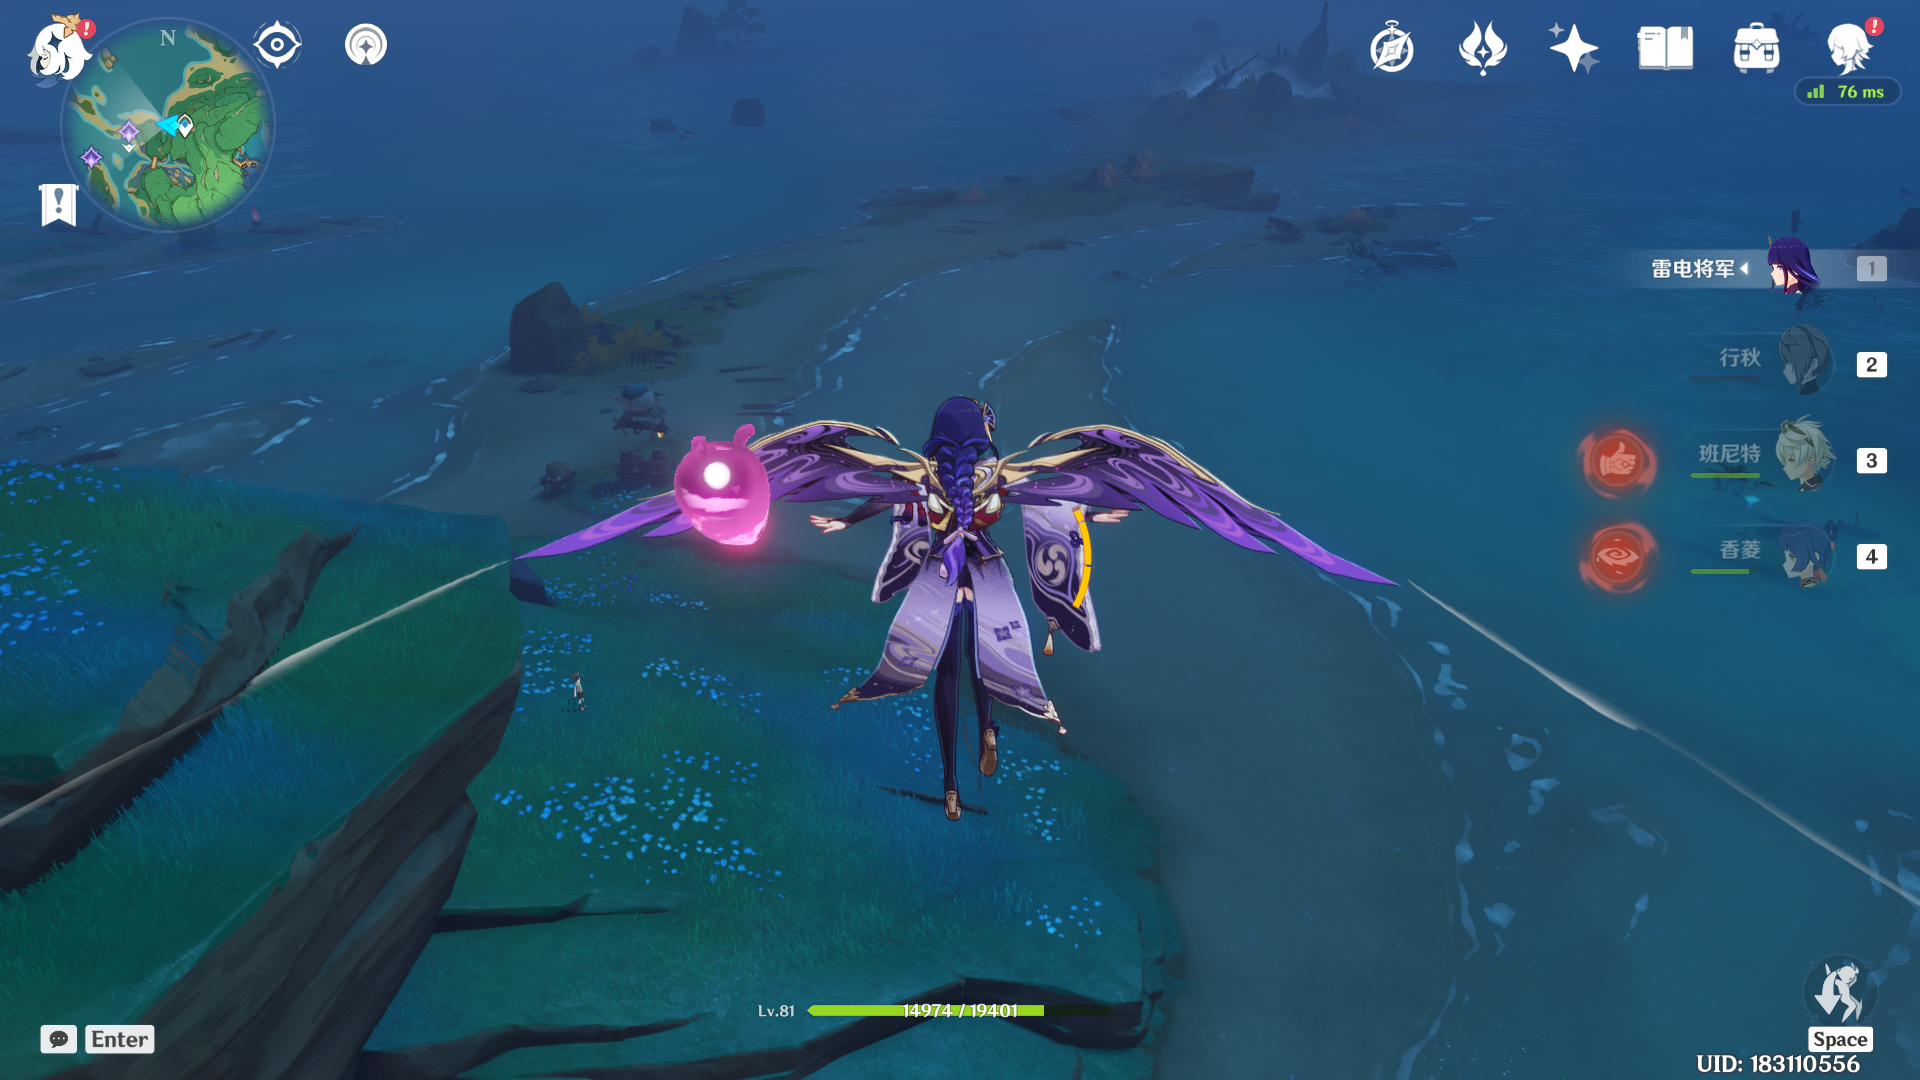character: (777, 320, 1145, 851)
